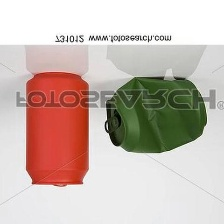can: (101, 69, 213, 158), (20, 70, 92, 190)
